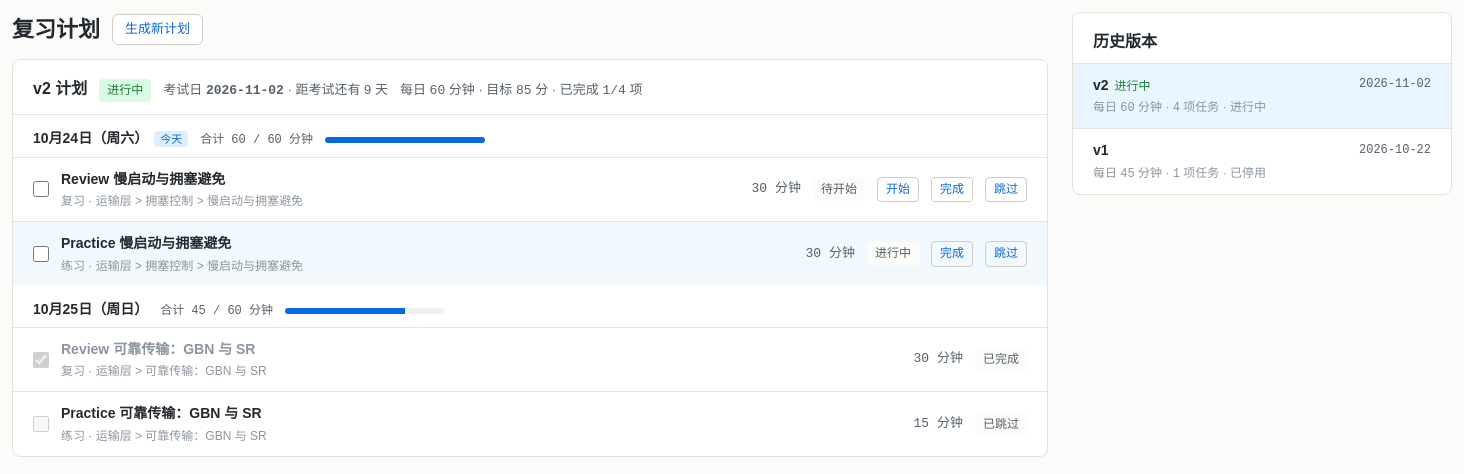
Test: 非 active 计划只读：切到 v1 后没有迁移按钮，并显示停用说明
This screenshot has width=1464, height=474.
Expected: the heading "v2 计划" is shown, [33,76,87,102]
Click the button "v1 2026-10-22 每日 45 分钟 · 1 项任务 · 已停用".
click(1395, 150)  # box [1073,128,1451,194]
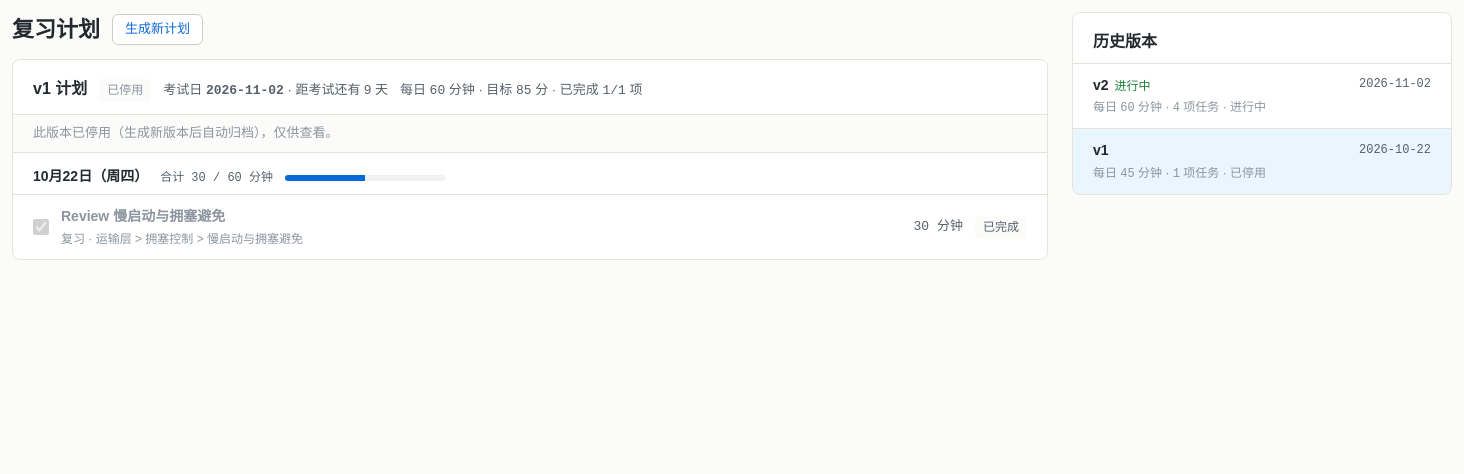
Expected: the heading "v1 计划" is shown, [33,76,87,102]
Expected: the text "此版本已停用（生成新版本后自动归档），仅供查看。" is shown, [13,115,1047,153]
Expected: the text "开始" is gone
